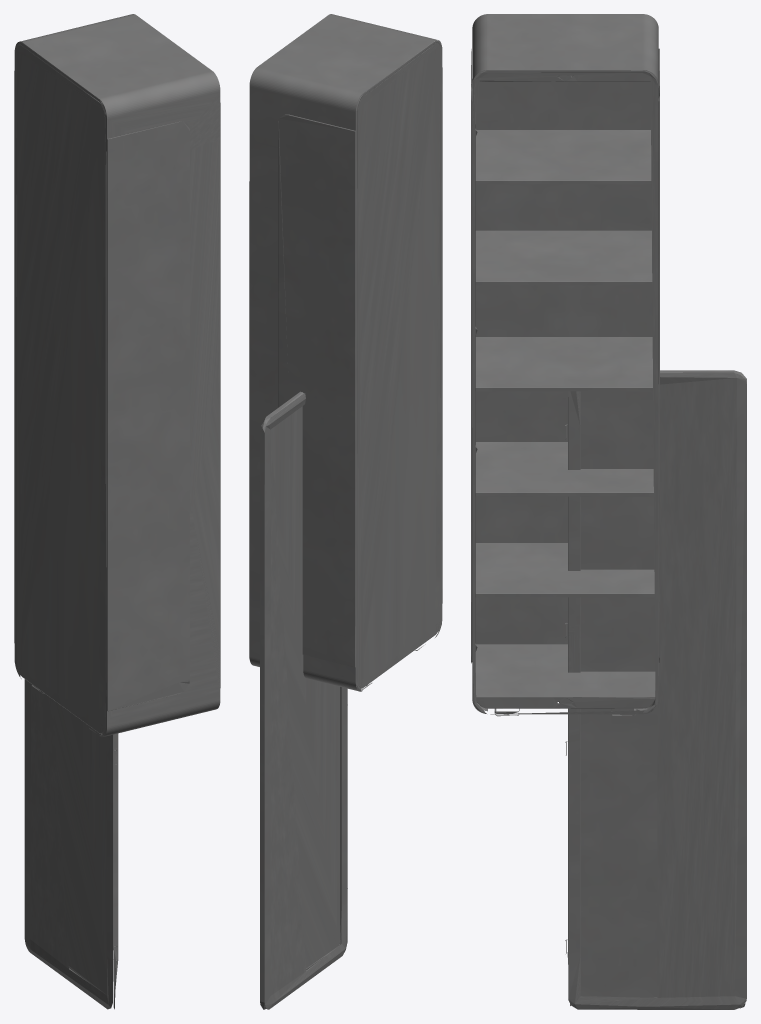
Rendered from cabinet_file_b04.glb.
3 renders of one model, left to right at view 1: azimuth 30°, elevation 25°; view 2: azimuth 150°, elevation 25°; view 3: azimuth 270°, elevation 25°, orthographic. The views are drawn at different scales.
Visible parts, largest first — view 1: geometry_0; view 2: geometry_0; view 3: geometry_0.
Boxes of the visible parts, box(x1,y1,x2,y2) form: geometry_0: box(14, 14, 220, 1009); geometry_0: box(249, 14, 442, 1009); geometry_0: box(471, 14, 746, 1009).
Bounding box in the file's own units: 0.0526 × 0.42 × 0.1086.
Materials: 1 (1 with a texture image).
